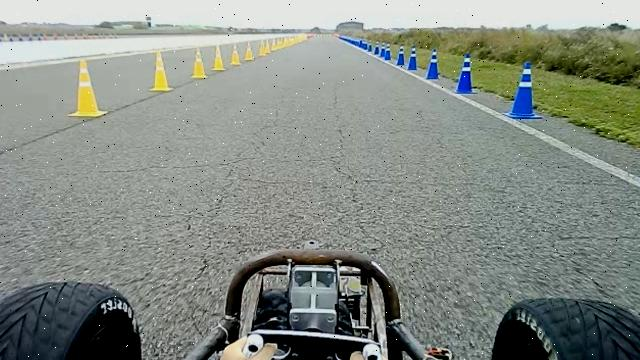blue cone: (503, 61, 543, 119), (453, 52, 478, 94), (426, 47, 440, 80), (408, 46, 418, 71), (396, 45, 406, 66), (379, 42, 387, 58), (384, 43, 391, 60), (374, 41, 381, 55)
yellow cone: (68, 59, 109, 118), (148, 50, 174, 92), (190, 46, 208, 79), (212, 43, 226, 70), (230, 43, 242, 66), (243, 41, 254, 61), (258, 40, 268, 56), (264, 39, 272, 54), (270, 40, 278, 52)
